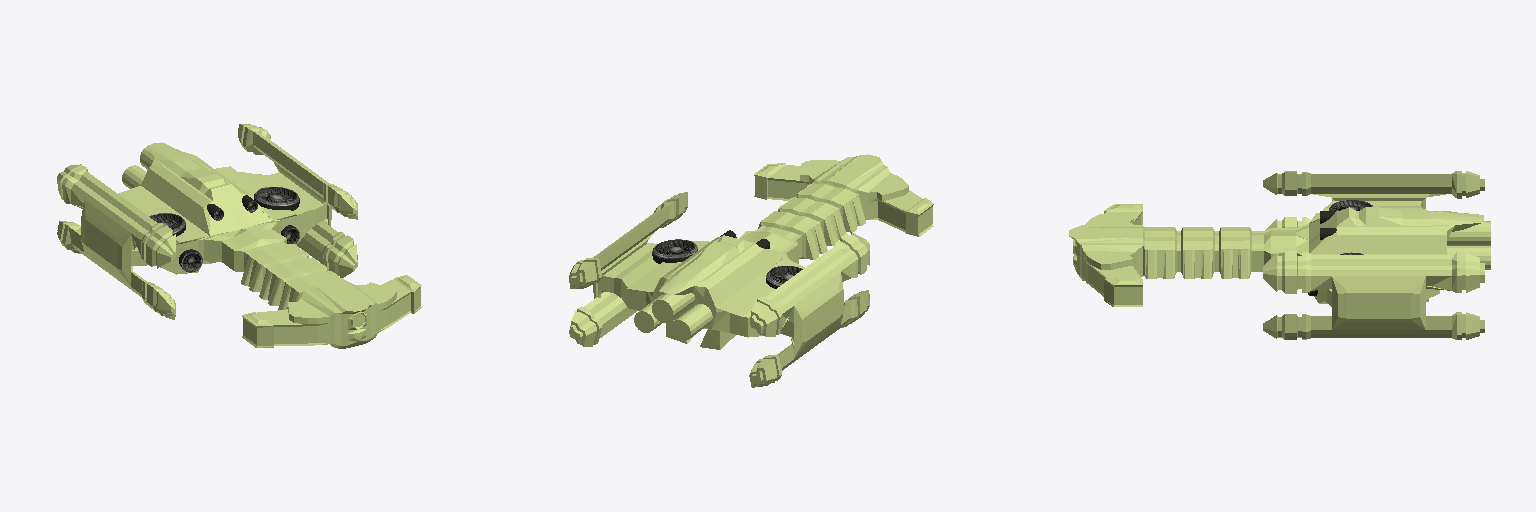
3 views of the same model, side by side, from view 1: azimuth 30°, elevation 25°; view 2: azimuth 150°, elevation 25°; view 3: azimuth 270°, elevation 25° (orthographic).
Parts seen in each view (by area): view 1: Box002, Cylinder019; view 2: Box002, Cylinder019; view 3: Box002.
Boxes of the visible parts, x1,y1,x2,y2 form: Box002: [57, 124, 421, 348]; Cylinder019: [254, 187, 299, 210]; Box002: [569, 154, 933, 387]; Cylinder019: [652, 239, 697, 263]; Box002: [1069, 171, 1490, 339].
Bounding box in the file's own units: 422 × 169 × 735.
4 materials, 2 textured.